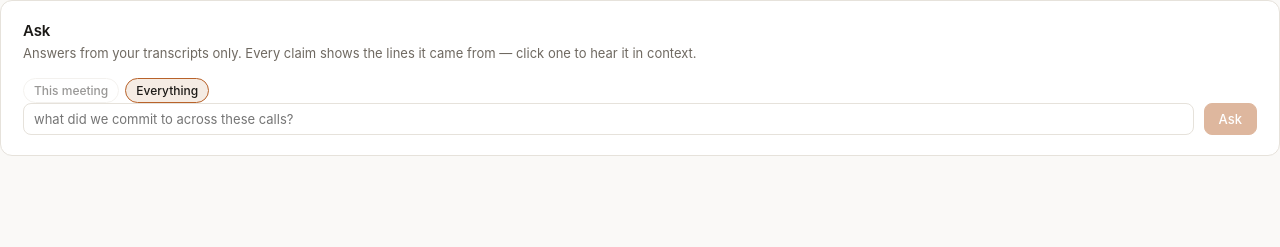
it: ChatCard › marks a claim it could not trace
Type "q" into the field named "ask a question".
click(608, 118); type("q")  # box [23,102,1194,134]
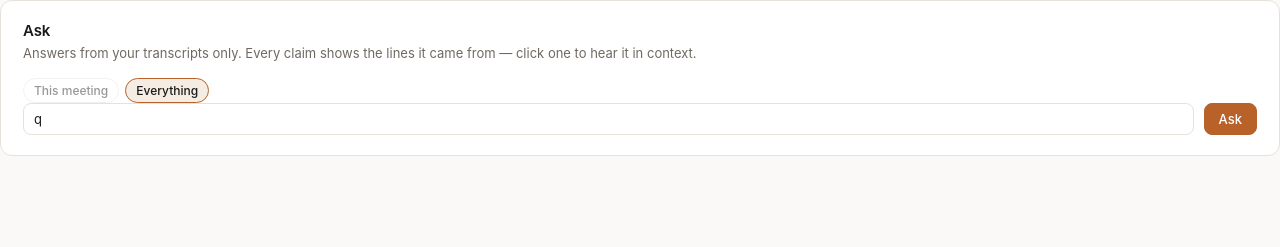
Click the button "Ask".
click(1230, 118)  # box [1204,102,1257,134]
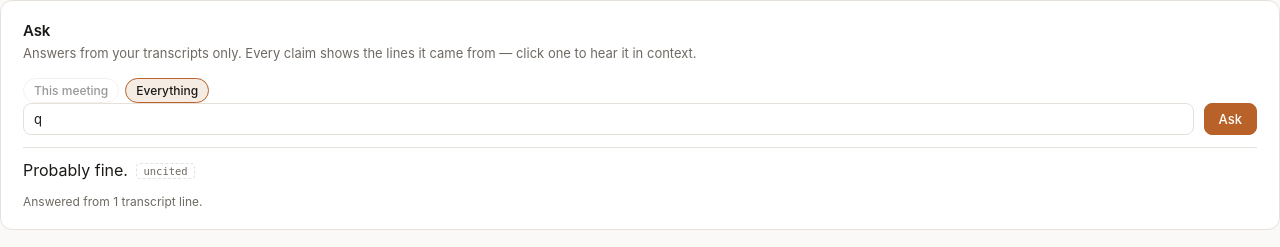
Expected: the text "uncited" is shown, [136,162,195,178]
